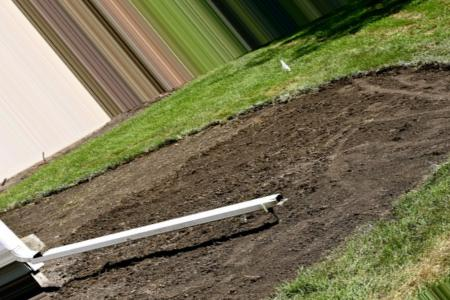patch: (166, 92, 432, 198), (77, 258, 270, 292), (60, 178, 144, 234), (245, 217, 329, 245)
